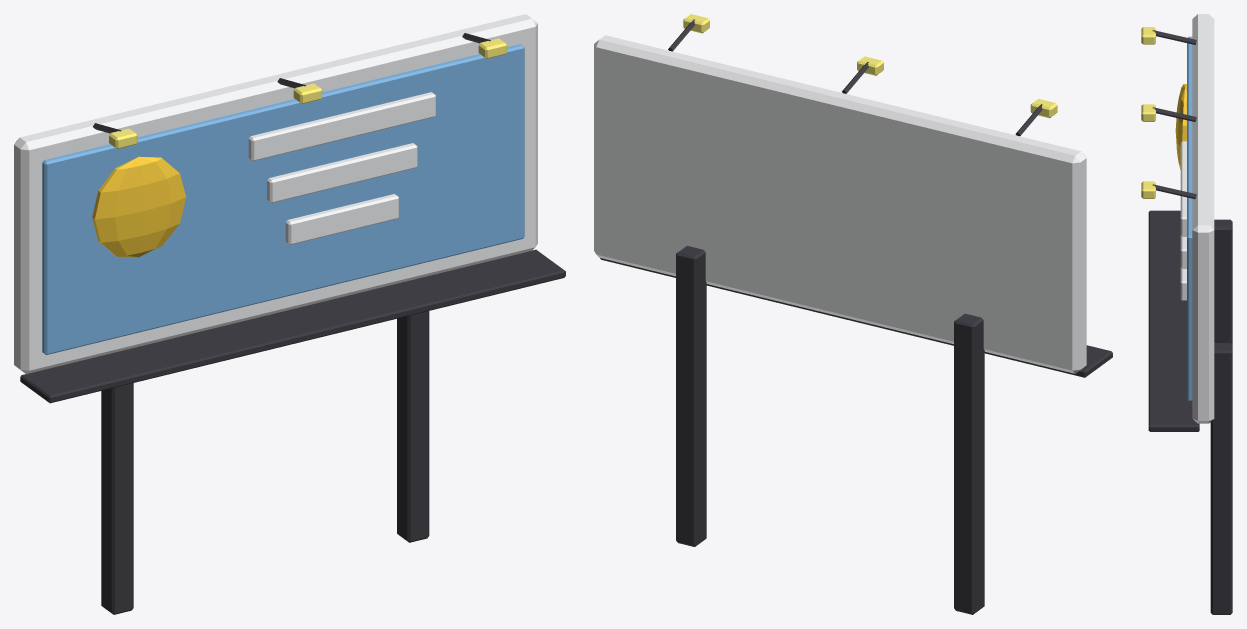
File: Billboard.fbx
3 renders of one model, left to right at view 1: azimuth 30°, elevation 25°; view 2: azimuth 150°, elevation 25°; view 3: azimuth 270°, elevation 25°, orthographic. The views are drawn at different scales.
Visible parts, largest first — view 1: Billboard; view 2: Billboard; view 3: Billboard.
Boxes of the visible parts, x1=… form: Billboard: x1=14, y1=14, x2=565, y2=614; Billboard: x1=594, y1=14, x2=1112, y2=614; Billboard: x1=1141, y1=14, x2=1232, y2=614.
Size of the model in its own units: 14 by 13.38 by 2.5.
Materials: 1 (1 with a texture image).
